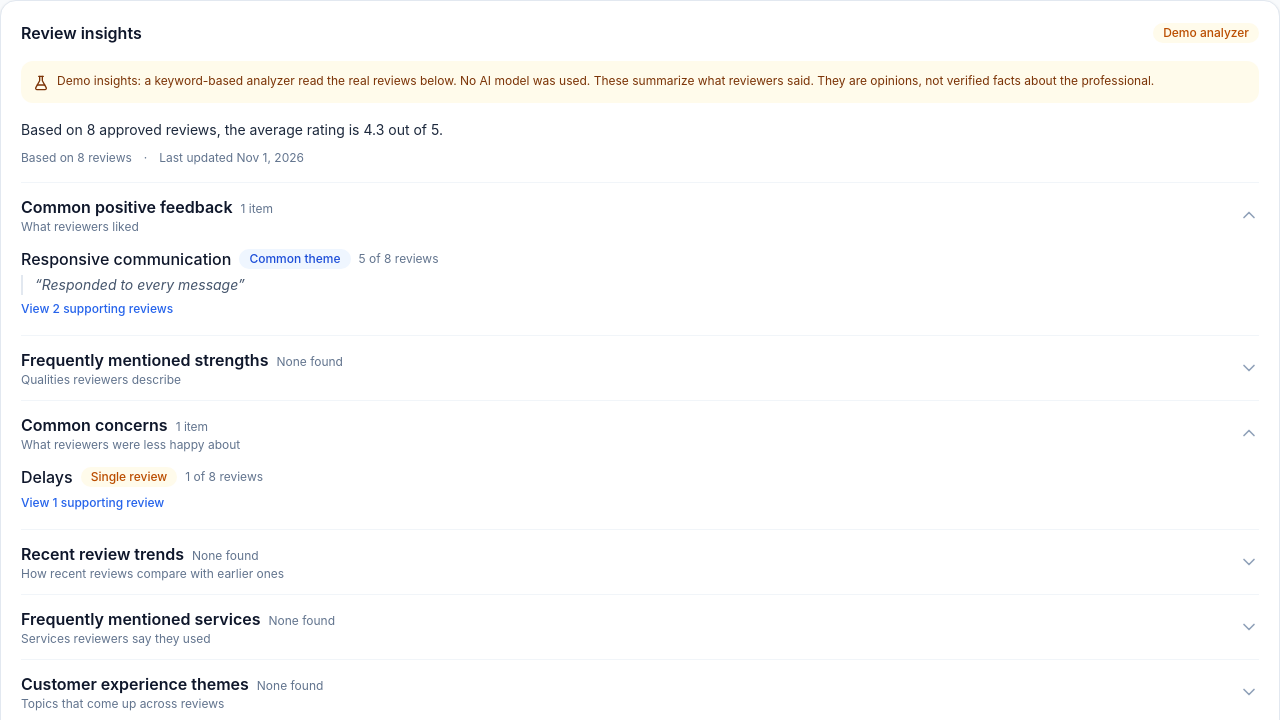
sections expand and collapse
Click the button "Recent review trends".
click(103, 554)  # box x1=21 y1=530 x2=1259 y2=594
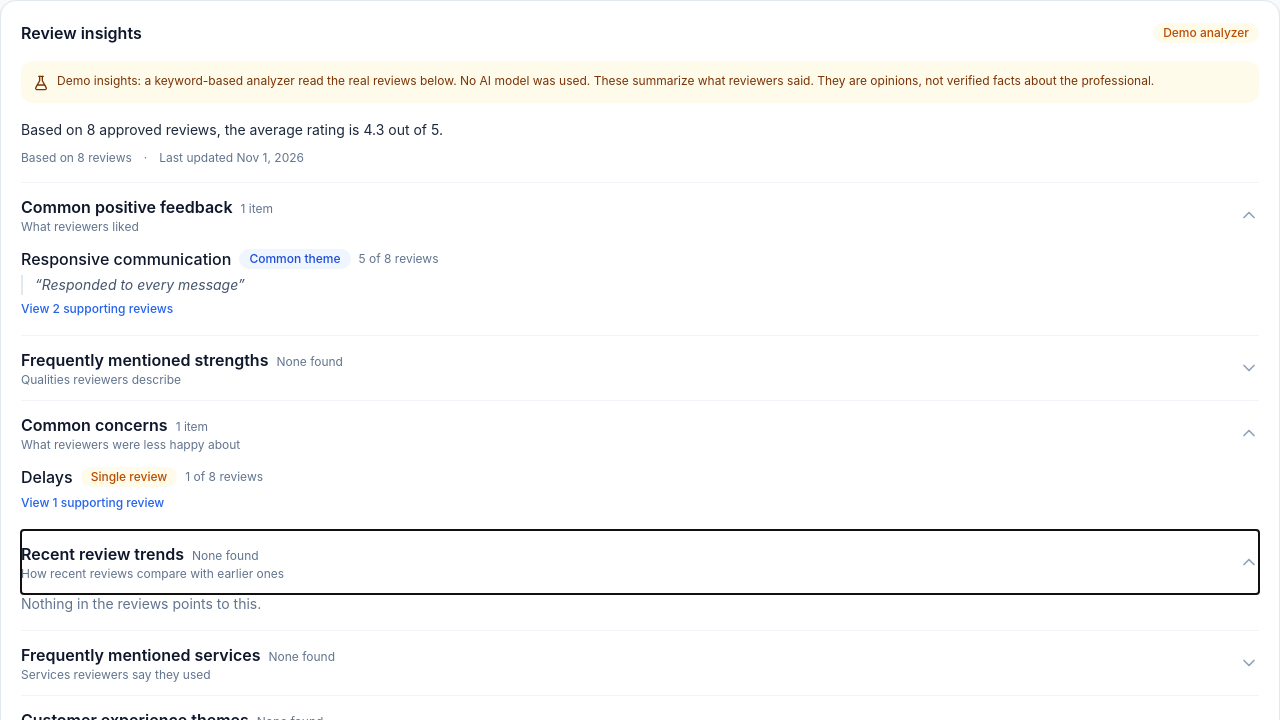
Check: the button "Recent review trends" is expanded, box x1=21 y1=530 x2=1259 y2=594
Check: the text "Nothing in the reviews points to this." is shown, box x1=21 y1=595 x2=261 y2=612
